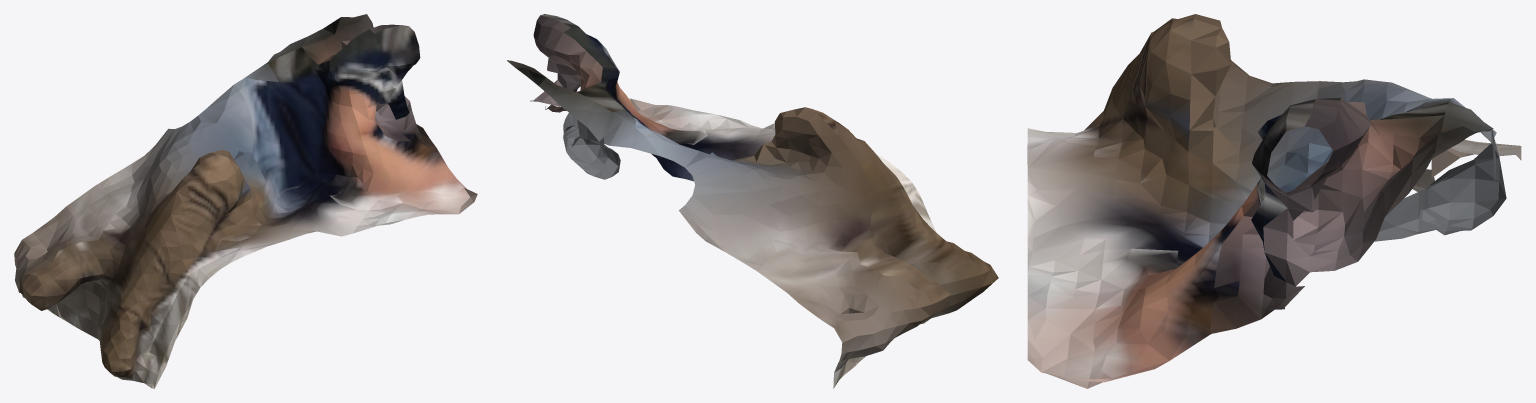
3 renders of one model, left to right at view 1: azimuth 30°, elevation 25°; view 2: azimuth 150°, elevation 25°; view 3: azimuth 270°, elevation 25°, orthographic. The views are drawn at different scales.
Size of the model in its own units: 1.06 by 0.6024 by 0.5912.
1 material, 1 textured.
